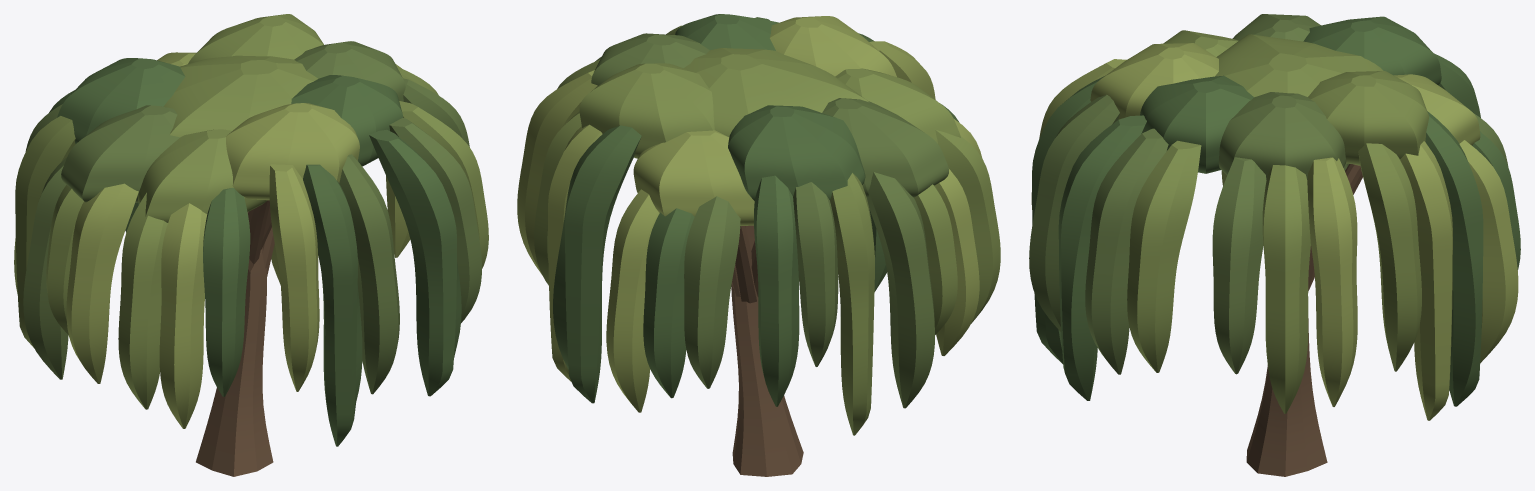
Rendered from weeping_willow.glb.
3 views of the same model, side by side, from view 1: azimuth 30°, elevation 25°; view 2: azimuth 150°, elevation 25°; view 3: azimuth 270°, elevation 25° (orthographic). The views are drawn at different scales.
Visible parts, largest first — view 1: Drooping foliage 8.1, Drooping foliage 7.2, Drooping foliage 6.2, Willow crown 7, Willow crown center, Drooping foliage 5.3, Drooping foliage 7.1, Drooping foliage 7.3, Willow trunk, Drooping foliage 6.3, Drooping foliage 6.1, Willow crown 5 (+13 smaller); view 2: Drooping foliage 2.3, Drooping foliage 5.1, Willow crown 4, Drooping foliage 4.1, Drooping foliage 4.3, Willow crown 2, Willow crown center, Drooping foliage 3.3, Willow trunk, Willow crown 3, Drooping foliage 3.1, Drooping foliage 3.2 (+15 smaller); view 3: Drooping foliage 8.3, Drooping foliage 1.2, Drooping foliage 1.3, Drooping foliage 8.2, Drooping foliage 8.1, Drooping foliage 2.2, Drooping foliage 1.1, Drooping foliage 2.1, Drooping foliage 2.3, Willow crown 2, Willow crown 1, Drooping foliage 7.3 (+13 smaller).
Part boxes in pixels (left/top/right/bottom): Drooping foliage 8.1: left=369, top=129, right=461, bottom=396; Drooping foliage 7.2: left=303, top=164, right=362, bottom=446; Drooping foliage 6.2: left=159, top=203, right=207, bottom=428; Willow crown 7: left=225, top=103, right=359, bottom=200; Willow crown center: left=163, top=55, right=317, bottom=137; Drooping foliage 5.3: left=66, top=183, right=138, bottom=383; Drooping foliage 7.1: left=269, top=164, right=319, bottom=391; Drooping foliage 7.3: left=339, top=154, right=399, bottom=394; Willow trunk: left=196, top=212, right=273, bottom=476; Drooping foliage 6.3: left=203, top=188, right=250, bottom=396; Drooping foliage 6.1: left=118, top=192, right=167, bottom=409; Willow crown 5: left=61, top=105, right=179, bottom=202; Drooping foliage 2.3: left=553, top=125, right=641, bottom=403; Drooping foliage 5.1: left=867, top=172, right=934, bottom=408; Willow crown 4: left=728, top=105, right=865, bottom=200; Drooping foliage 4.1: left=754, top=175, right=799, bottom=406; Drooping foliage 4.3: left=830, top=173, right=874, bottom=435; Willow crown 2: left=579, top=63, right=714, bottom=158; Willow crown center: left=684, top=48, right=868, bottom=136; Drooping foliage 3.3: left=684, top=196, right=740, bottom=388; Willow trunk: left=731, top=225, right=803, bottom=476; Willow crown 3: left=633, top=130, right=754, bottom=225; Drooping foliage 3.1: left=606, top=189, right=659, bottom=412; Drooping foliage 3.2: left=643, top=208, right=694, bottom=398; Drooping foliage 8.3: left=1127, top=140, right=1201, bottom=372; Drooping foliage 1.2: left=1262, top=165, right=1310, bottom=413; Drooping foliage 1.3: left=1307, top=157, right=1357, bottom=406; Drooping foliage 8.2: left=1085, top=128, right=1168, bottom=374; Drooping foliage 8.1: left=1058, top=115, right=1146, bottom=400; Drooping foliage 2.2: left=1400, top=141, right=1452, bottom=420; Drooping foliage 1.1: left=1212, top=157, right=1266, bottom=374; Drooping foliage 2.1: left=1358, top=143, right=1421, bottom=371; Drooping foliage 2.3: left=1425, top=111, right=1483, bottom=406; Willow crown 2: left=1308, top=71, right=1428, bottom=164; Willow crown 1: left=1218, top=92, right=1346, bottom=179; Drooping foliage 7.3: left=1029, top=94, right=1119, bottom=331.
Bounding box in the file's own units: 6.35 × 5.81 × 6.19.
